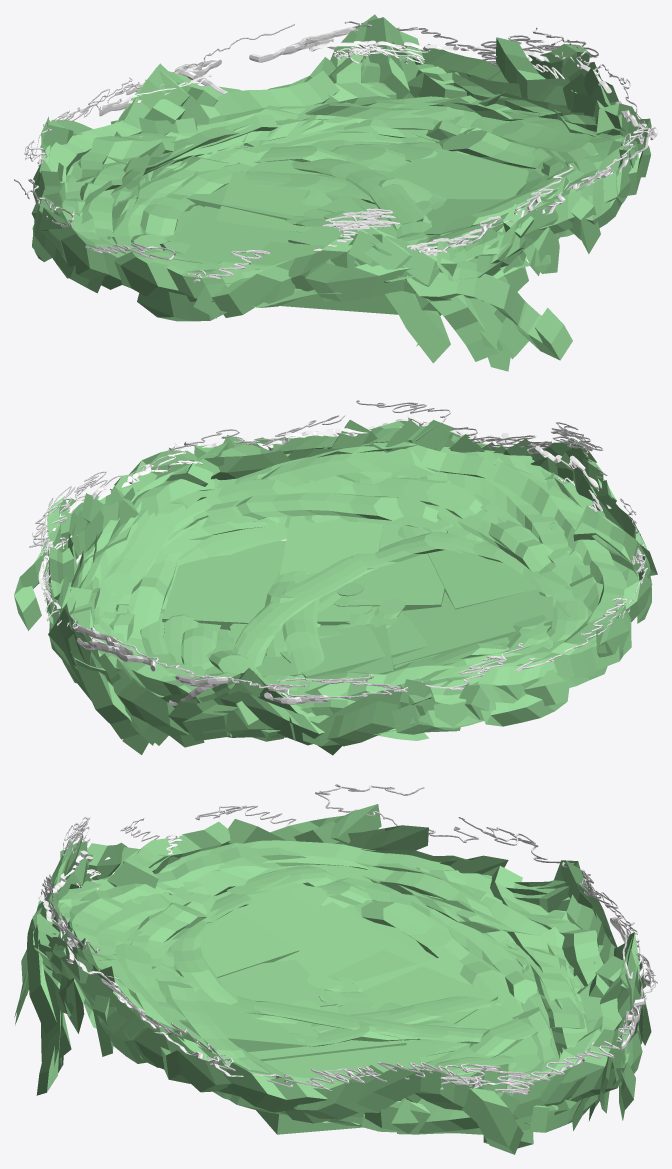
The model's file is escenario2.glb.
The picture shows the model from 3 angles, top to bottom: view 1: azimuth 30°, elevation 25°; view 2: azimuth 150°, elevation 25°; view 3: azimuth 270°, elevation 25°; orthographic projection. The views are drawn at different scales.
Visible parts, largest first — view 1: group179234248; view 2: group179234248; view 3: group179234248.
Boxes of the visible parts, bbox=[...] form: group179234248: bbox=[14, 14, 657, 371]; group179234248: bbox=[14, 400, 657, 755]; group179234248: bbox=[14, 784, 657, 1154].
Bounding box in the file's own units: 0.1839 × 0.06 × 0.1744.
